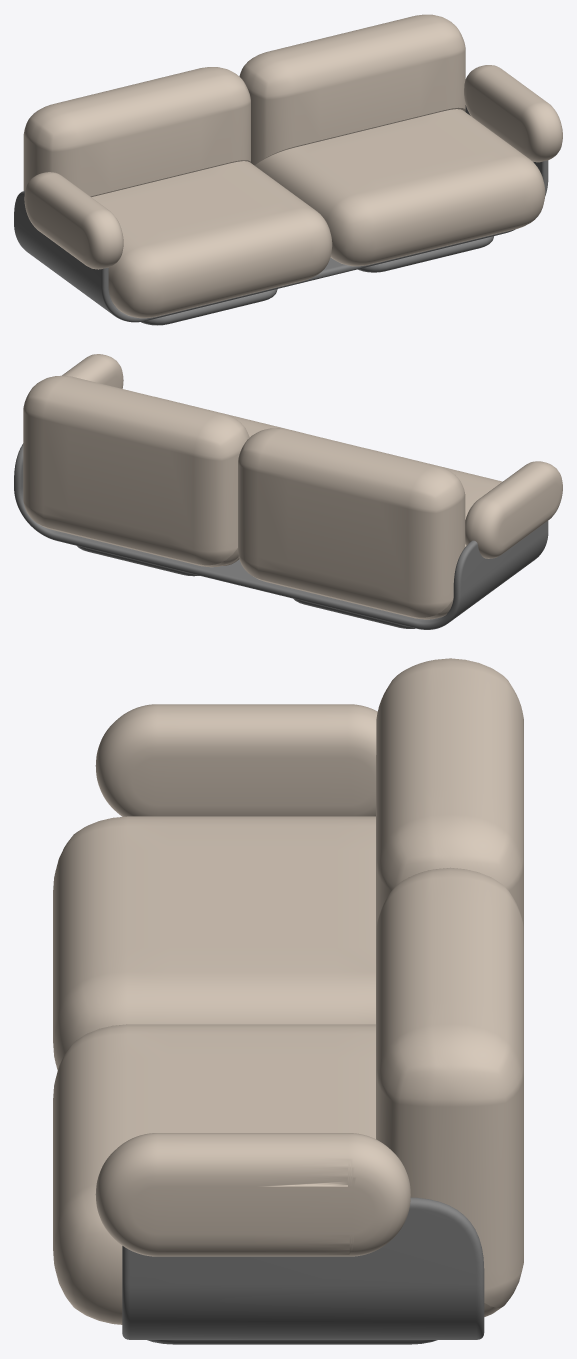
File: Cannoli sofa.fbx
3 views of the same model, one above another, from view 1: azimuth 30°, elevation 25°; view 2: azimuth 150°, elevation 25°; view 3: azimuth 270°, elevation 25° (orthographic). The views are drawn at different scales.
Visible parts, largest first — view 1: Box010, Box009, Box008, Box007, Line010, Line011, Line009, Body2_005, Body2_006; view 2: Box007, Box008, Line009, Line010, Line011, Box009, Body2_006, Body2_005, Box010; view 3: Box009, Box008, Box010, Line011, Line009, Box007, Line010, Body2_006.
Part boxes in pixels (x1,y1,x2,y2): Box010: [255, 109, 545, 266]; Box009: [91, 161, 332, 318]; Box008: [239, 14, 465, 165]; Box007: [23, 67, 250, 196]; Line010: [24, 172, 123, 269]; Line011: [464, 65, 562, 162]; Line009: [14, 105, 548, 322]; Body2_005: [141, 289, 277, 325]; Body2_006: [358, 236, 493, 272]; Box007: [238, 428, 465, 619]; Box008: [23, 375, 249, 567]; Line009: [14, 443, 548, 629]; Line010: [465, 461, 562, 558]; Line011: [62, 354, 123, 388]; Box009: [376, 450, 502, 546]; Body2_006: [77, 546, 199, 576]; Body2_005: [293, 598, 415, 628]; Box010: [167, 399, 291, 565]; Box009: [53, 816, 375, 1070]; Box008: [376, 867, 523, 1316]; Box010: [53, 1024, 375, 1324]; Line011: [95, 1133, 410, 1256]; Line009: [122, 1197, 484, 1339]; Box007: [376, 658, 523, 963]; Line010: [95, 704, 377, 816]; Body2_006: [147, 1340, 437, 1344].
Bounding box in the file's own units: 2179 × 728 × 943.
